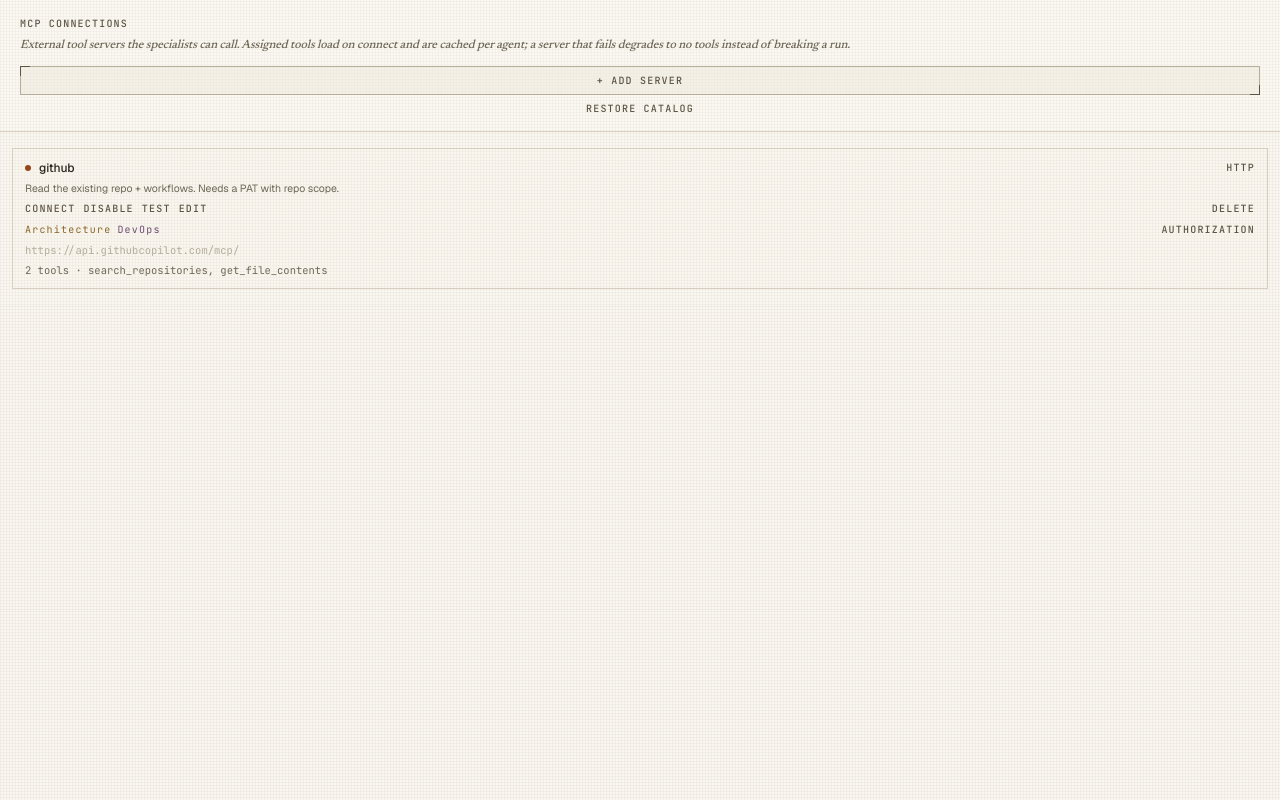
Test case: McpPanel › surfaces a failed connection test
This screenshot has width=1280, height=800.
Click the button "TEST" at (156,208), box [142,201,171,216]
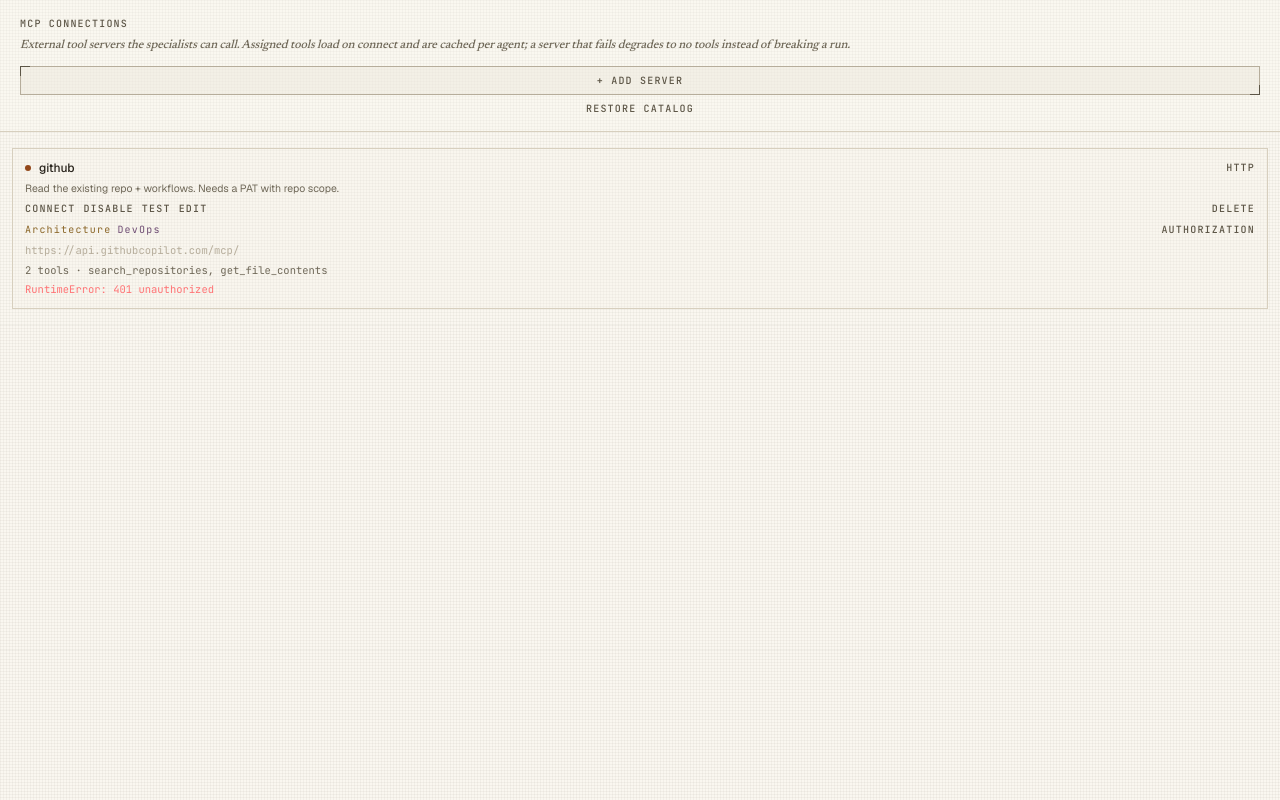
Now the text "RuntimeError: 401 unauthorized" is shown, box [25,282,214,296]
